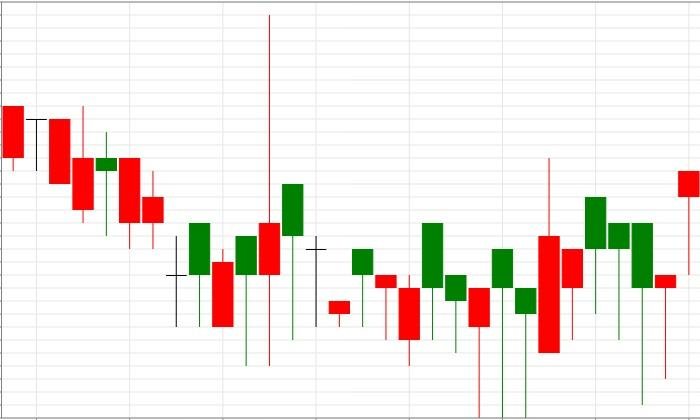bullish_engulfing_rise: (1, 105, 211, 327)
hammer_rise: (584, 196, 677, 405), (421, 223, 491, 419)
hanging_man_fall: (212, 14, 304, 366)
